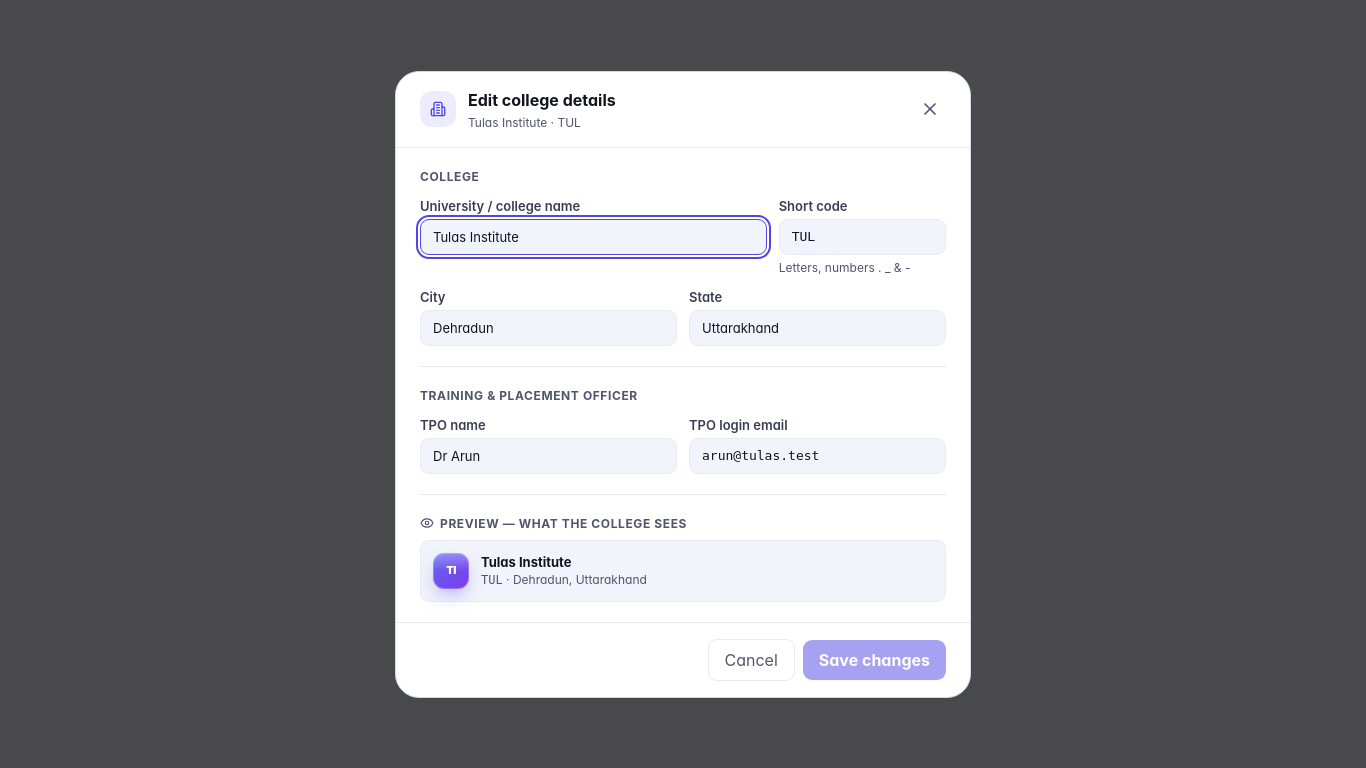
Test: EditCollegeModal › shows the server's reason next to the field and keeps the dialog open
The width and height of the screenshot is (1366, 768).
Replace the text in the field labelled "Short code" with "SHA" at (862, 236), box [779,218,946,254]
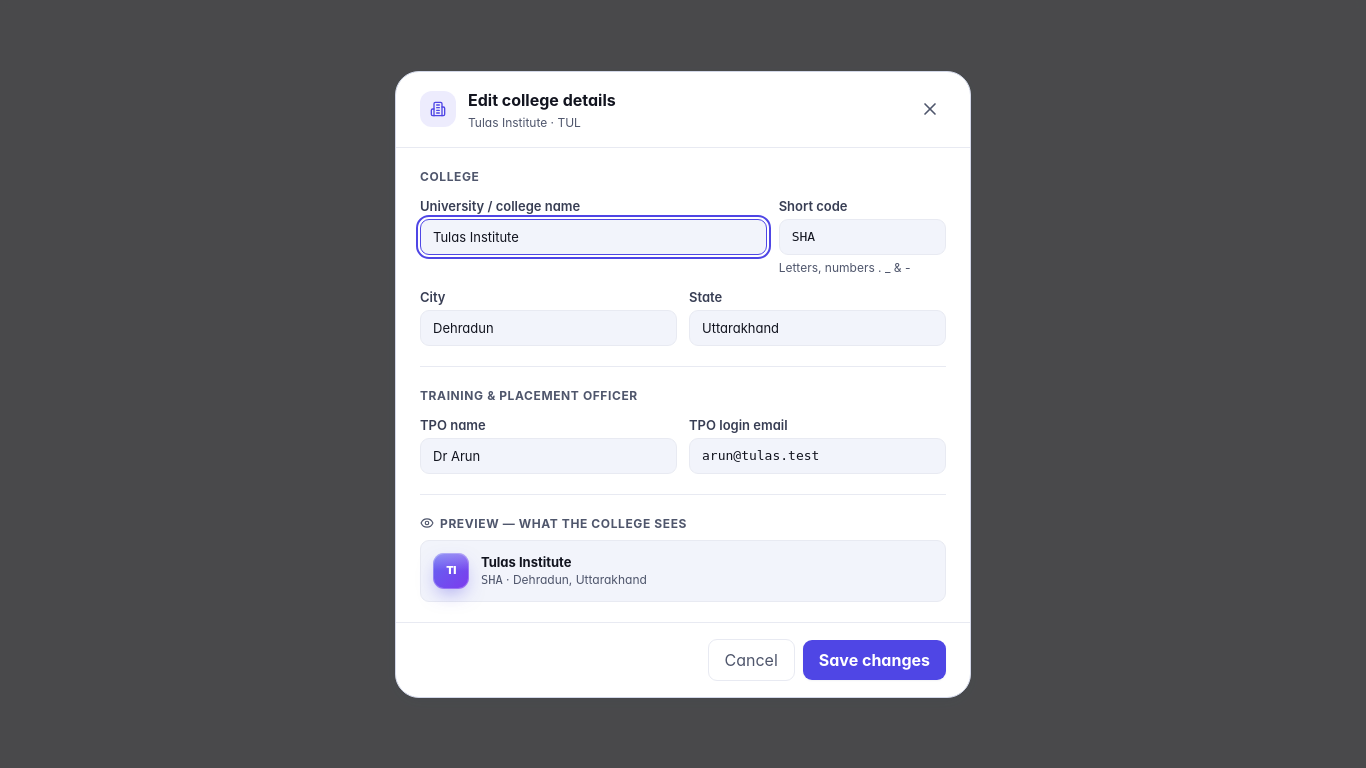
Click the button "Save changes" at (874, 660), box [803,640,946,680]
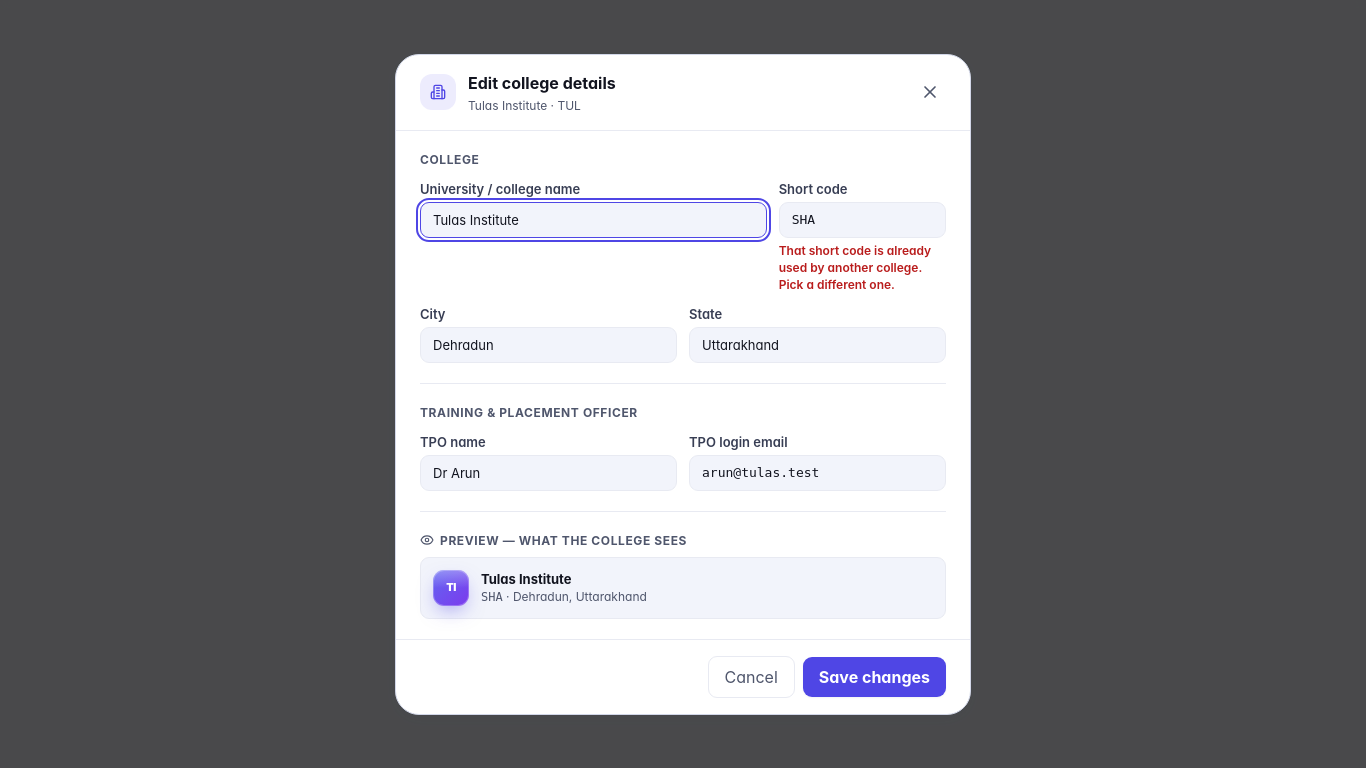
Result: the text "already used by another college" is shown at [779,242,931,292]
